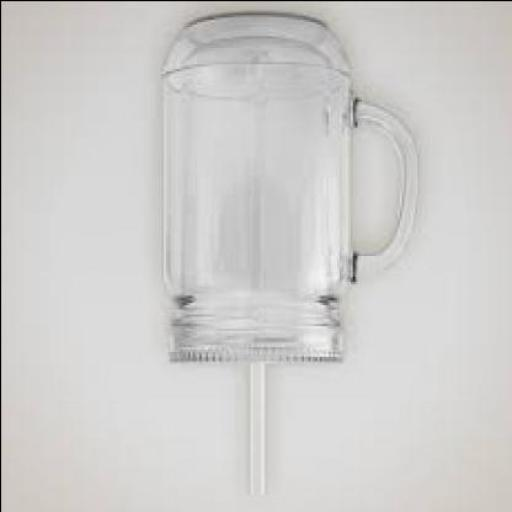glass: (156, 14, 416, 363)
